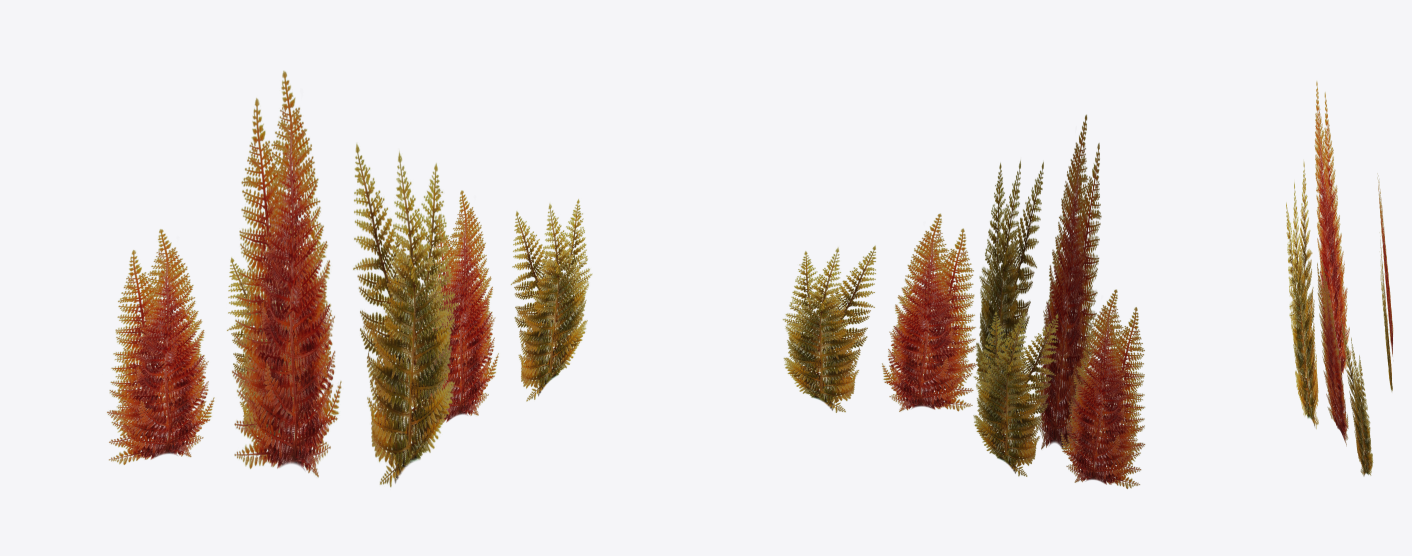
File: kaisou.glb
3 views of the same model, side by side, from view 1: azimuth 30°, elevation 25°; view 2: azimuth 150°, elevation 25°; view 3: azimuth 270°, elevation 25° (orthographic). The views are drawn at different scales.
Visible parts, largest first — view 1: kaisou.002, kaisou, kaisou.001; view 2: kaisou, kaisou.001, kaisou.002; view 3: kaisou.002, kaisou, kaisou.001.
Boxes of the visible parts, box(x1,y1,x2,y2) form: kaisou.002: box(232, 70, 458, 487); kaisou: box(416, 190, 592, 422); kaisou.001: box(107, 229, 329, 464); kaisou: box(782, 213, 977, 412); kaisou.001: box(973, 289, 1145, 488); kaisou.002: box(976, 114, 1101, 450); kaisou.002: box(1286, 81, 1351, 429); kaisou: box(1317, 261, 1373, 476); kaisou.001: box(1377, 173, 1393, 391).
Size of the model in its own units: 3.15 by 2.42 by 0.8889.
1 material, 1 textured.
